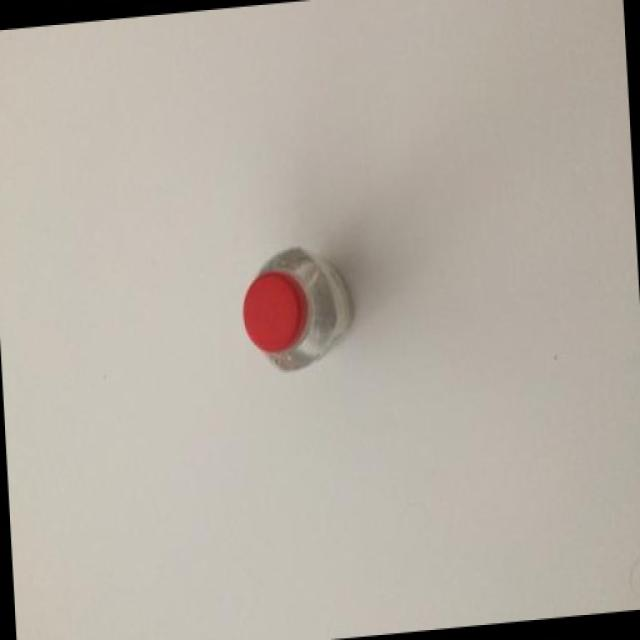plastico: (230, 218, 398, 407)
